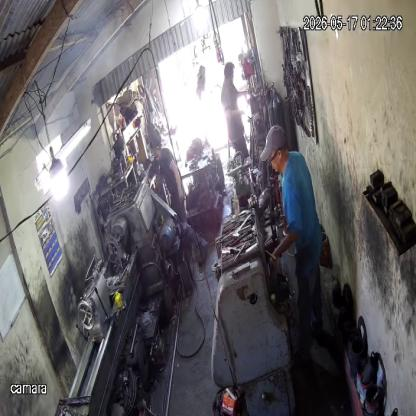lentes: (268, 147, 280, 163)
